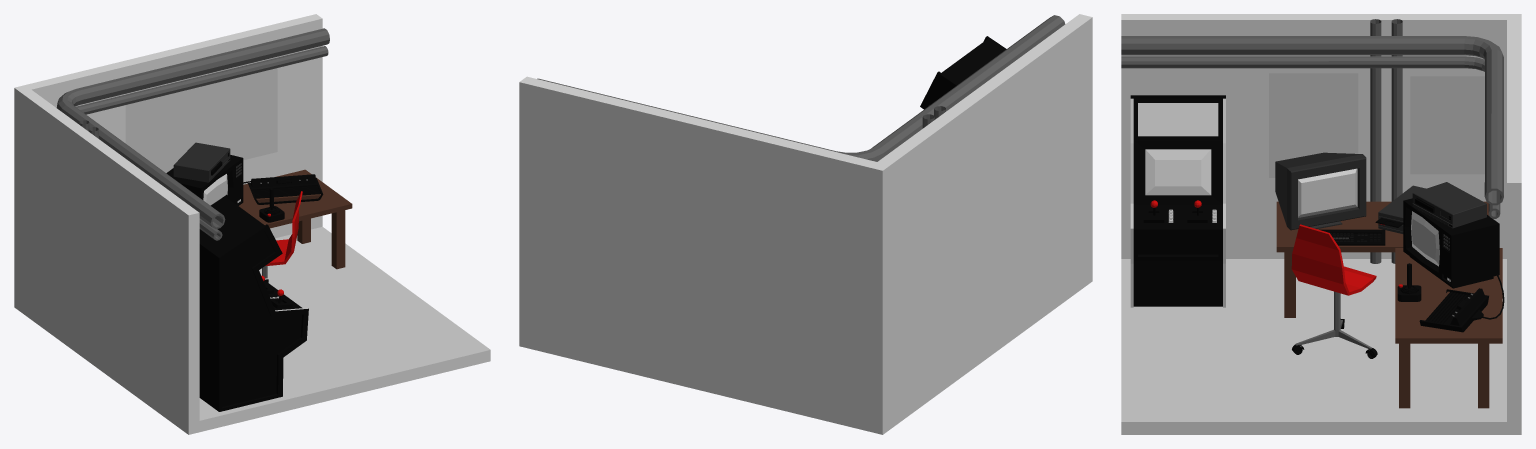
File: arcade.obj
The picture shows the model from 3 angles, left to right: view 1: azimuth 30°, elevation 25°; view 2: azimuth 150°, elevation 25°; view 3: azimuth 270°, elevation 25°; orthographic projection. The views are drawn at different scales.
Visible parts, largest first — view 1: Room_Plane, Jatekgep_Plane.003, 80s-Retro-Sci-Fi-FPoster-and-lyer-Templates-for-Adobe-Photoshop, pipestop_Plane.001, Table_Plane.007, VHS_Plane.016, Labak_Plane.009, Plane.010_Plane.012, Plane.001_Plane.004, Plane_Plane.015, Plane.003_Plane.013, TV_Plane.010 (+1 smaller); view 2: Room_Plane, pipestop_Plane.001, Jatekgep_Plane.003; view 3: Room_Plane, Jatekgep_Plane.003, pipestop_Plane.001, space-sluts-vintage-sci-fi-comic-book-cover-long-shot, robotlegion, Monitor_Plane.029, Table_Plane.007, Arcade_game_machine_Plane.002, Plane_Plane.015, TV_Plane.010, Table.002_Plane.020, Plane.010_Plane.012 (+11 smaller).
Part boxes in pixels (x1,y1,x2,y2): Room_Plane: [14, 14, 490, 434]; Jatekgep_Plane.003: [199, 194, 308, 411]; 80s-Retro-Sci-Fi-FPoster-and-lyer-Templates-for-Adobe-Photoshop: [125, 68, 277, 172]; pipestop_Plane.001: [56, 28, 329, 240]; Table_Plane.007: [239, 169, 352, 228]; VHS_Plane.016: [173, 142, 229, 182]; Labak_Plane.009: [297, 210, 345, 269]; Plane.010_Plane.012: [201, 164, 234, 205]; Plane.001_Plane.004: [248, 174, 323, 204]; Plane_Plane.015: [265, 191, 302, 265]; Plane.003_Plane.013: [253, 186, 320, 199]; TV_Plane.010: [166, 155, 242, 198]; Room_Plane: [519, 14, 1092, 434]; pipestop_Plane.001: [537, 15, 1065, 161]; Jatekgep_Plane.003: [920, 36, 1006, 109]; Room_Plane: [1121, 14, 1521, 434]; Jatekgep_Plane.003: [1130, 95, 1225, 307]; pipestop_Plane.001: [1121, 36, 1503, 218]; space-sluts-vintage-sci-fi-comic-book-cover-long-shot: [1269, 73, 1358, 177]; robotlegion: [1410, 76, 1484, 174]; Monitor_Plane.029: [1275, 152, 1366, 230]; Table_Plane.007: [1395, 248, 1502, 343]; Arcade_game_machine_Plane.002: [1370, 19, 1402, 263]; Plane_Plane.015: [1291, 224, 1376, 295]; TV_Plane.010: [1403, 198, 1499, 288]; Table.002_Plane.020: [1276, 201, 1488, 252]; Plane.010_Plane.012: [1403, 201, 1441, 278].
Size of what is drawn, in the model's own units: 8.3 by 5.8 by 8.3.
